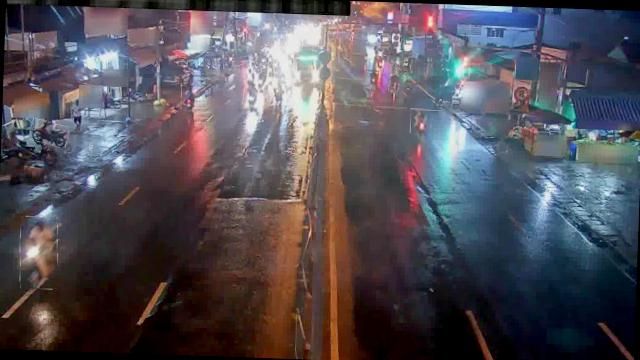Bike: (19, 215, 60, 289), (29, 121, 70, 146), (410, 109, 430, 134), (243, 84, 259, 109), (182, 86, 196, 109), (272, 80, 286, 103), (256, 66, 267, 90), (243, 68, 256, 87), (389, 74, 400, 91)
Bus: (294, 46, 322, 81)
